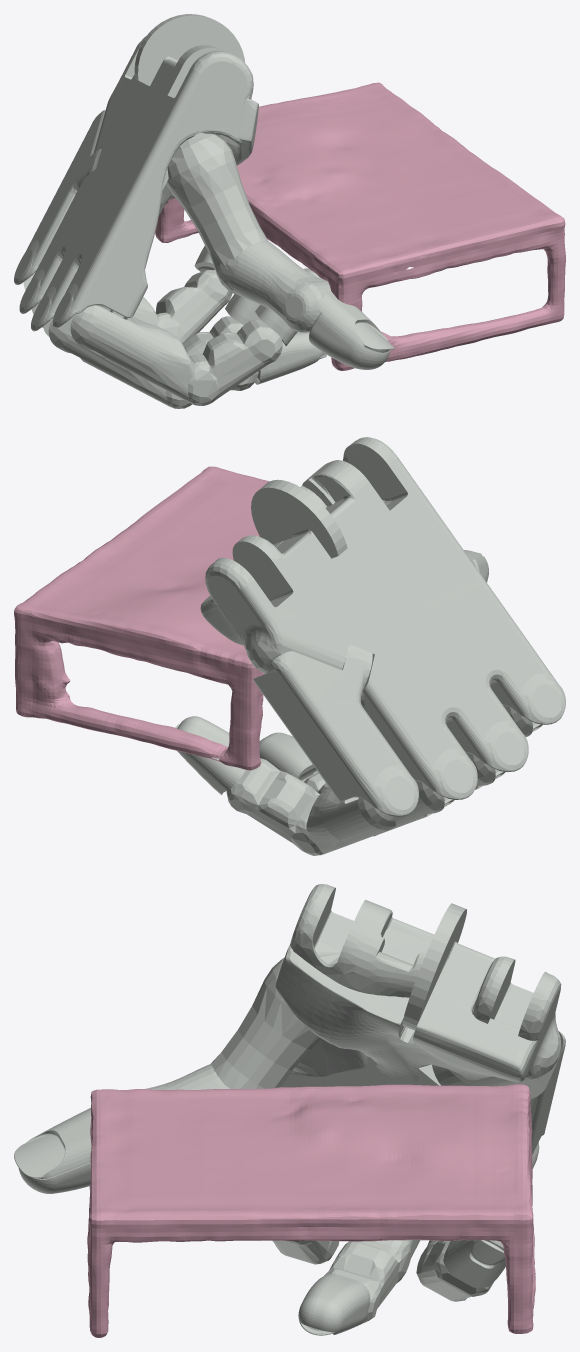
The picture shows the model from 3 angles, top to bottom: view 1: azimuth 30°, elevation 25°; view 2: azimuth 150°, elevation 25°; view 3: azimuth 270°, elevation 25°; orthographic projection. The views are drawn at different scales.
Visible parts, largest first — view 1: hand, world; view 2: hand, world; view 3: world, hand.
Part boxes in pixels (bbox=[...]): hand: bbox=[14, 14, 394, 408]; world: bbox=[155, 82, 565, 370]; hand: bbox=[175, 437, 565, 855]; world: bbox=[14, 466, 269, 770]; world: bbox=[87, 1084, 535, 1337]; hand: bbox=[14, 884, 565, 1335].
Size of the model in its own units: 0.1708 by 0.1353 by 0.1627.
